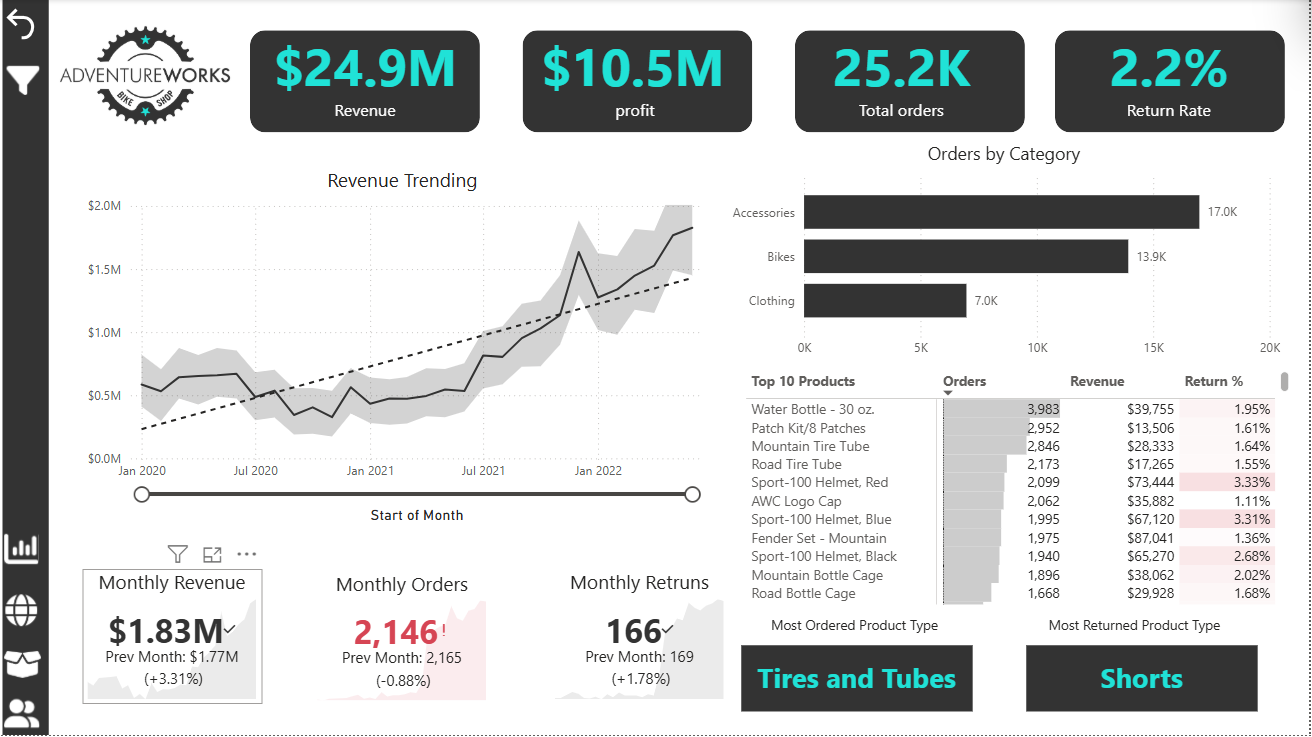

The page's visual inventory and layout, read from the dashboard file:
{"tool":"powerbi","page":{"name":"Dashboard","canvas":[1280,720],"ordinal":0},"visuals":[{"type":"image","title":"LOGO","box":[40,10,203.8,130],"z":0},{"type":"shape","box":[245,30,225,100],"z":0,"group":"g2"},{"type":"shape","title":"Left Backgroud","box":[2.4,0,45.2,720.2],"z":1000},{"type":"shape","box":[511.9,30,225,100],"z":1000,"group":"g2"},{"type":"actionButton","box":[0,517,45.2,41.6],"z":1000,"group":"g4"},{"type":"group","id":"g1","title":"KPIs","box":[245,0,1012.5,150],"z":2000},{"type":"group","id":"g2","title":"KPIs Backgroud","box":[245,30,1012.5,100],"z":2000,"group":"g1"},{"type":"shape","box":[778.8,30,225,100],"z":2000,"group":"g2"},{"type":"actionButton","box":[0,627.1,44,46.5],"z":2000,"group":"g4"},{"type":"card","fields":{"Values":["Measure Table.Total Revenue"]},"box":[256.2,0,203.8,150],"z":3000,"group":"g3"},{"type":"shape","box":[1032.5,30,225,100],"z":3000,"group":"g2"},{"type":"kpi","title":"Monthly Revenue","fields":{"Goal":["Measure Table.previous month revenue"],"Indicator":["Measure Table.Total Revenue"],"TrendLine":["Calendar Lookup.DATE Hierarchy.Start of Month"]},"box":[81.2,557.5,175,132.5],"z":3000},{"type":"actionButton","box":[0,677.2,44,42.8],"z":3000,"group":"g4"},{"type":"card","fields":{"Values":["Measure Table.Return Rate"]},"box":[1042.4,0,203.8,150],"z":4000,"group":"g3"},{"type":"kpi","title":"Monthly Orders","fields":{"Goal":["Measure Table.previous month Orders"],"Indicator":["Measure Table.Total orders"],"TrendLine":["Calendar Lookup.DATE Hierarchy.Start of Month"]},"box":[306.2,558.8,175,132.5],"z":4000},{"type":"actionButton","box":[1.2,578.2,45.2,39.1],"z":4000,"group":"g4"},{"type":"card","fields":{"Values":["Measure Table.Total orders"]},"box":[780.4,0,203.8,150],"z":5000,"group":"g3"},{"type":"kpi","title":"Monthly Retruns","fields":{"Goal":["Measure Table.Previous Month Returns"],"Indicator":["Measure Table.Total Returns"],"TrendLine":["Calendar Lookup.DATE Hierarchy.Start of Month"]},"box":[537.5,557.5,175,132.5],"z":5000},{"type":"card","fields":{"Values":["Measure Table.Total profit"]},"box":[518.3,0,203.8,150],"z":6000,"group":"g3"},{"type":"clusteredBarChart","title":" Orders by Category","fields":{"Category":["Product Categories Lookup.CategoryName"],"Y":["Measure Table.Total orders"]},"box":[706.8,139.4,550.4,220.4],"z":6000},{"type":"group","id":"g3","title":"KPIs Values","box":[256.2,0,990,150],"z":6001,"group":"g1"},{"type":"lineChart","title":"Revenue Trending","fields":{"Category":["Calendar Lookup.DATE Hierarchy.Start of Month"],"Y":["Measure Table.Total Revenue"]},"box":[81.1,163.6,625.8,352.7],"z":7000},{"type":"pivotTable","fields":{"Rows":["Product Lookup.ProductName"],"Values":["Measure Table.Total orders","Measure Table.Total Revenue","Measure Table.Return Rate"]},"box":[725,360,541.2,237.5],"z":8000},{"type":"card","fields":{"Values":["Min(Subcategories Lookup.SubcategoryName)"]},"box":[725,632.5,226.2,65],"z":9000},{"type":"textbox","box":[722.5,597.5,226.2,33.8],"z":10000},{"type":"card","fields":{"Values":["Min(Subcategories Lookup.SubcategoryName)"]},"box":[1003.8,632.5,226.2,65],"z":11000},{"type":"textbox","box":[996.2,597.5,226.2,35],"z":12000},{"type":"actionButton","box":[0,0,40.4,48.9],"z":13000},{"type":"group","id":"g4","title":"Navigation buttons","box":[0,517,46.5,203],"z":14000},{"type":"actionButton","box":[2.4,56.3,40.4,46.5],"z":15000}]}

Visuals, with their boxes on the page's 1280x720 design canvas (x1, y1, x2, y2). These are canvas units, not pixel positions in the 1312x737 screenshot, which may show the page scaled, cropped or inside an application window:
"LOGO" image: (40,10,244,140)
shape: (245,30,470,130)
"Left Backgroud" shape: (2,0,48,720)
shape: (512,30,737,130)
actionButton: (0,517,45,559)
"KPIs" group: (245,0,1258,150)
"KPIs Backgroud" group: (245,30,1258,130)
shape: (779,30,1004,130)
actionButton: (0,627,44,674)
card - Measure Table.Total Revenue: (256,0,460,150)
shape: (1032,30,1258,130)
"Monthly Revenue" kpi: (81,558,256,690)
actionButton: (0,677,44,720)
card - Measure Table.Return Rate: (1042,0,1246,150)
"Monthly Orders" kpi: (306,559,481,691)
actionButton: (1,578,46,617)
card - Measure Table.Total orders: (780,0,984,150)
"Monthly Retruns" kpi: (538,558,712,690)
card - Measure Table.Total profit: (518,0,722,150)
" Orders by Category" clusteredBarChart: (707,139,1257,360)
"KPIs Values" group: (256,0,1246,150)
"Revenue Trending" lineChart: (81,164,707,516)
pivotTable - Product Lookup.ProductName x Measure Table.Total orders: (725,360,1266,598)
card - Min(Subcategories Lookup.SubcategoryName): (725,632,951,698)
textbox: (722,598,949,631)
card - Min(Subcategories Lookup.SubcategoryName): (1004,632,1230,698)
textbox: (996,598,1222,632)
actionButton: (0,0,40,49)
"Navigation buttons" group: (0,517,46,720)
actionButton: (2,56,43,103)
